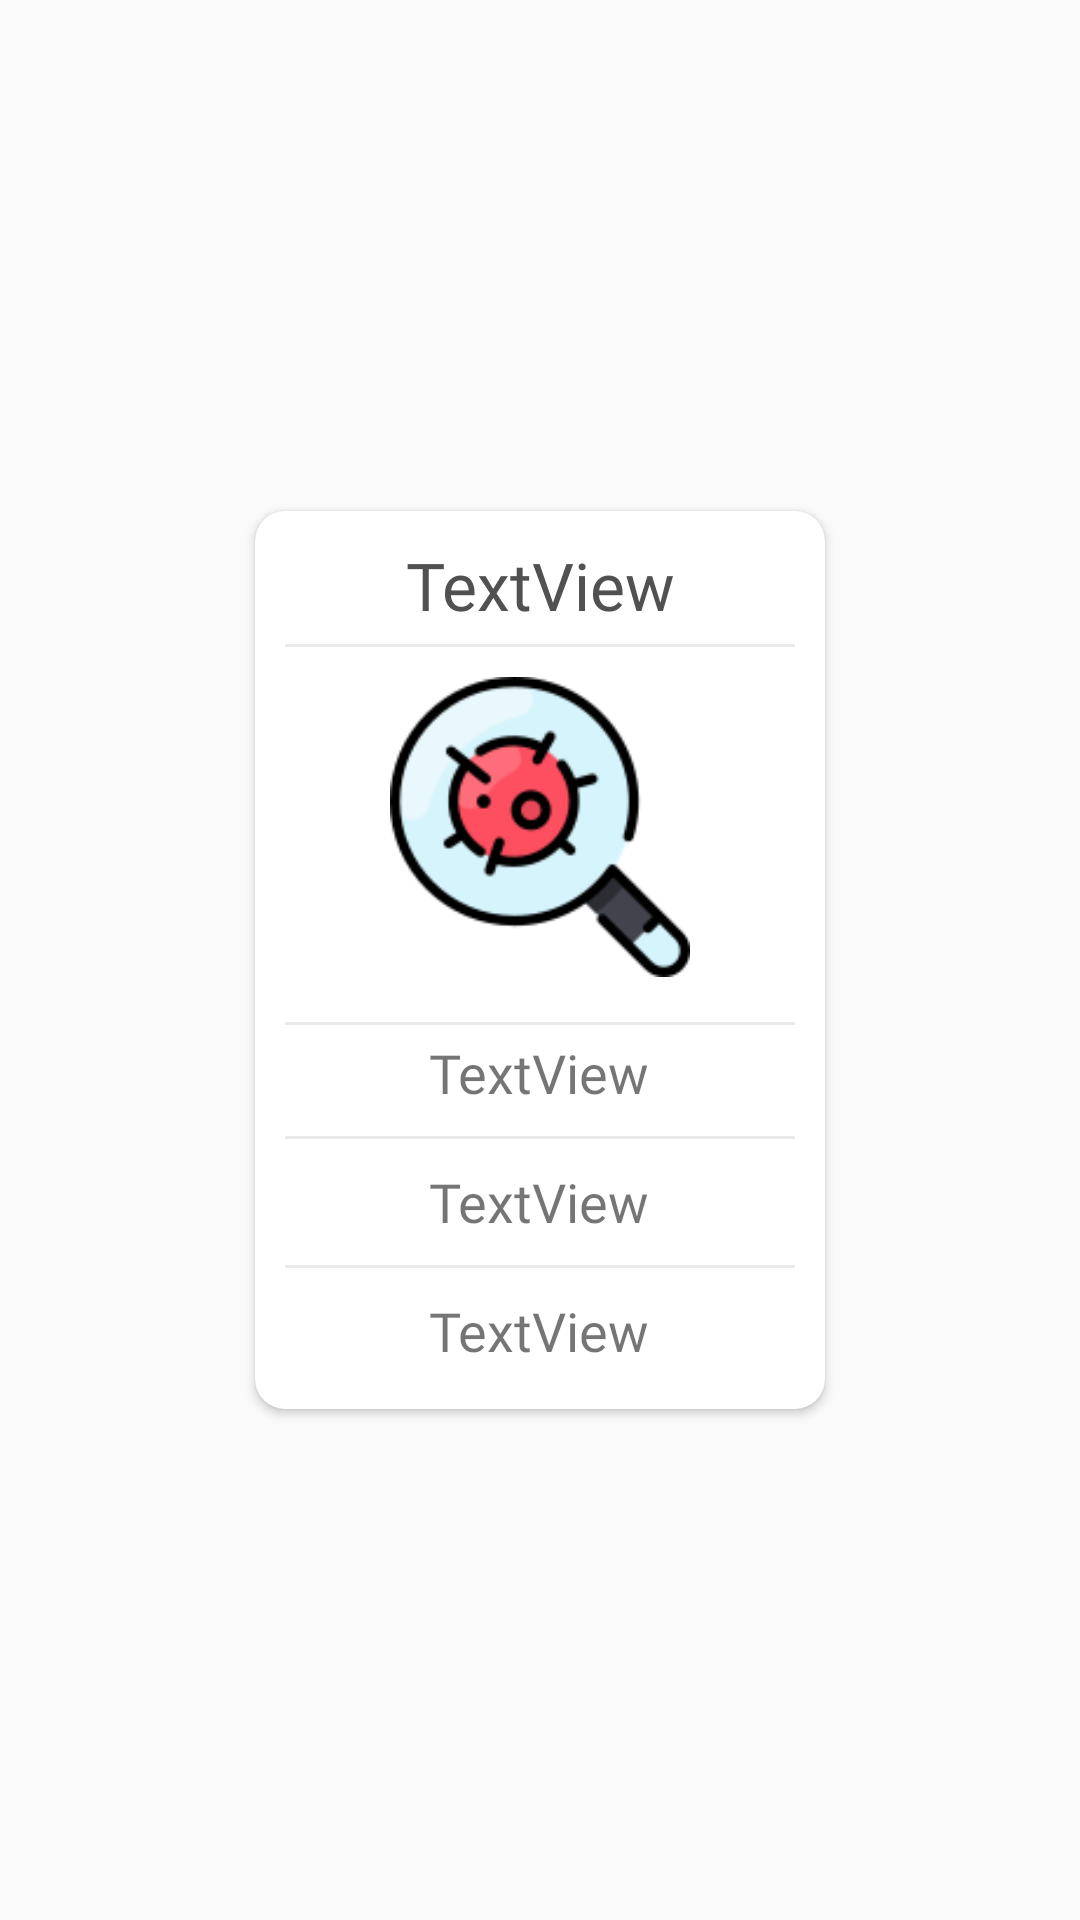

Icons on this 1080 × 1920 Android screen, each with the point to tap as (x=x, y=y):
coronavirus: (x=540, y=827)
